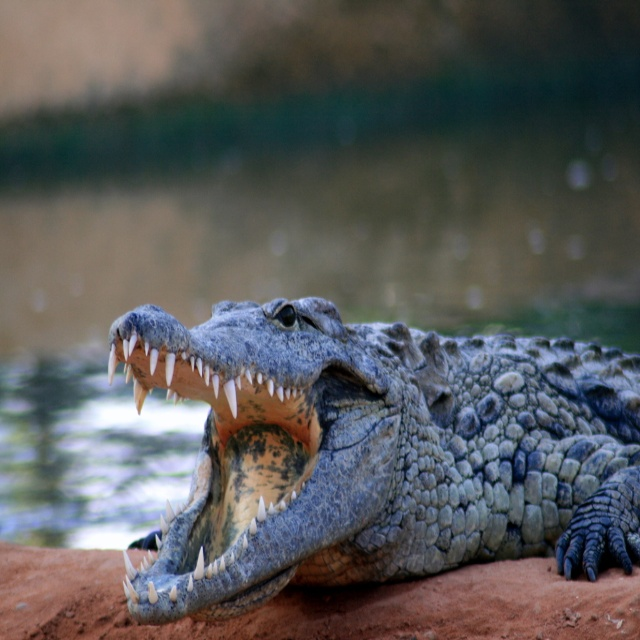Crocodile: (106, 298, 640, 625)
